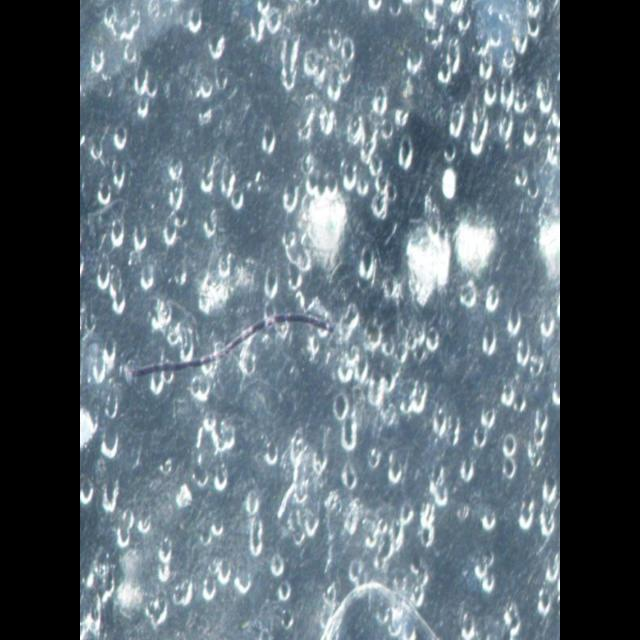Fibre: (128, 288, 344, 426)
